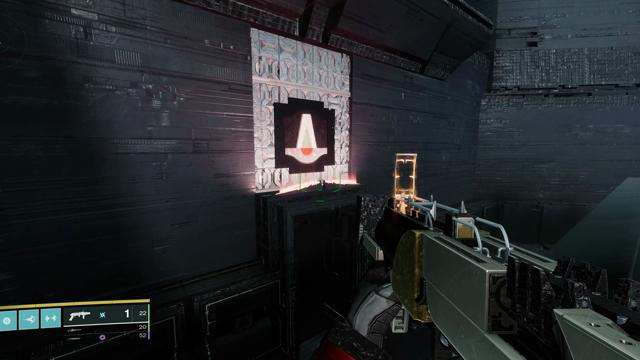enter: (285, 111, 327, 164)
